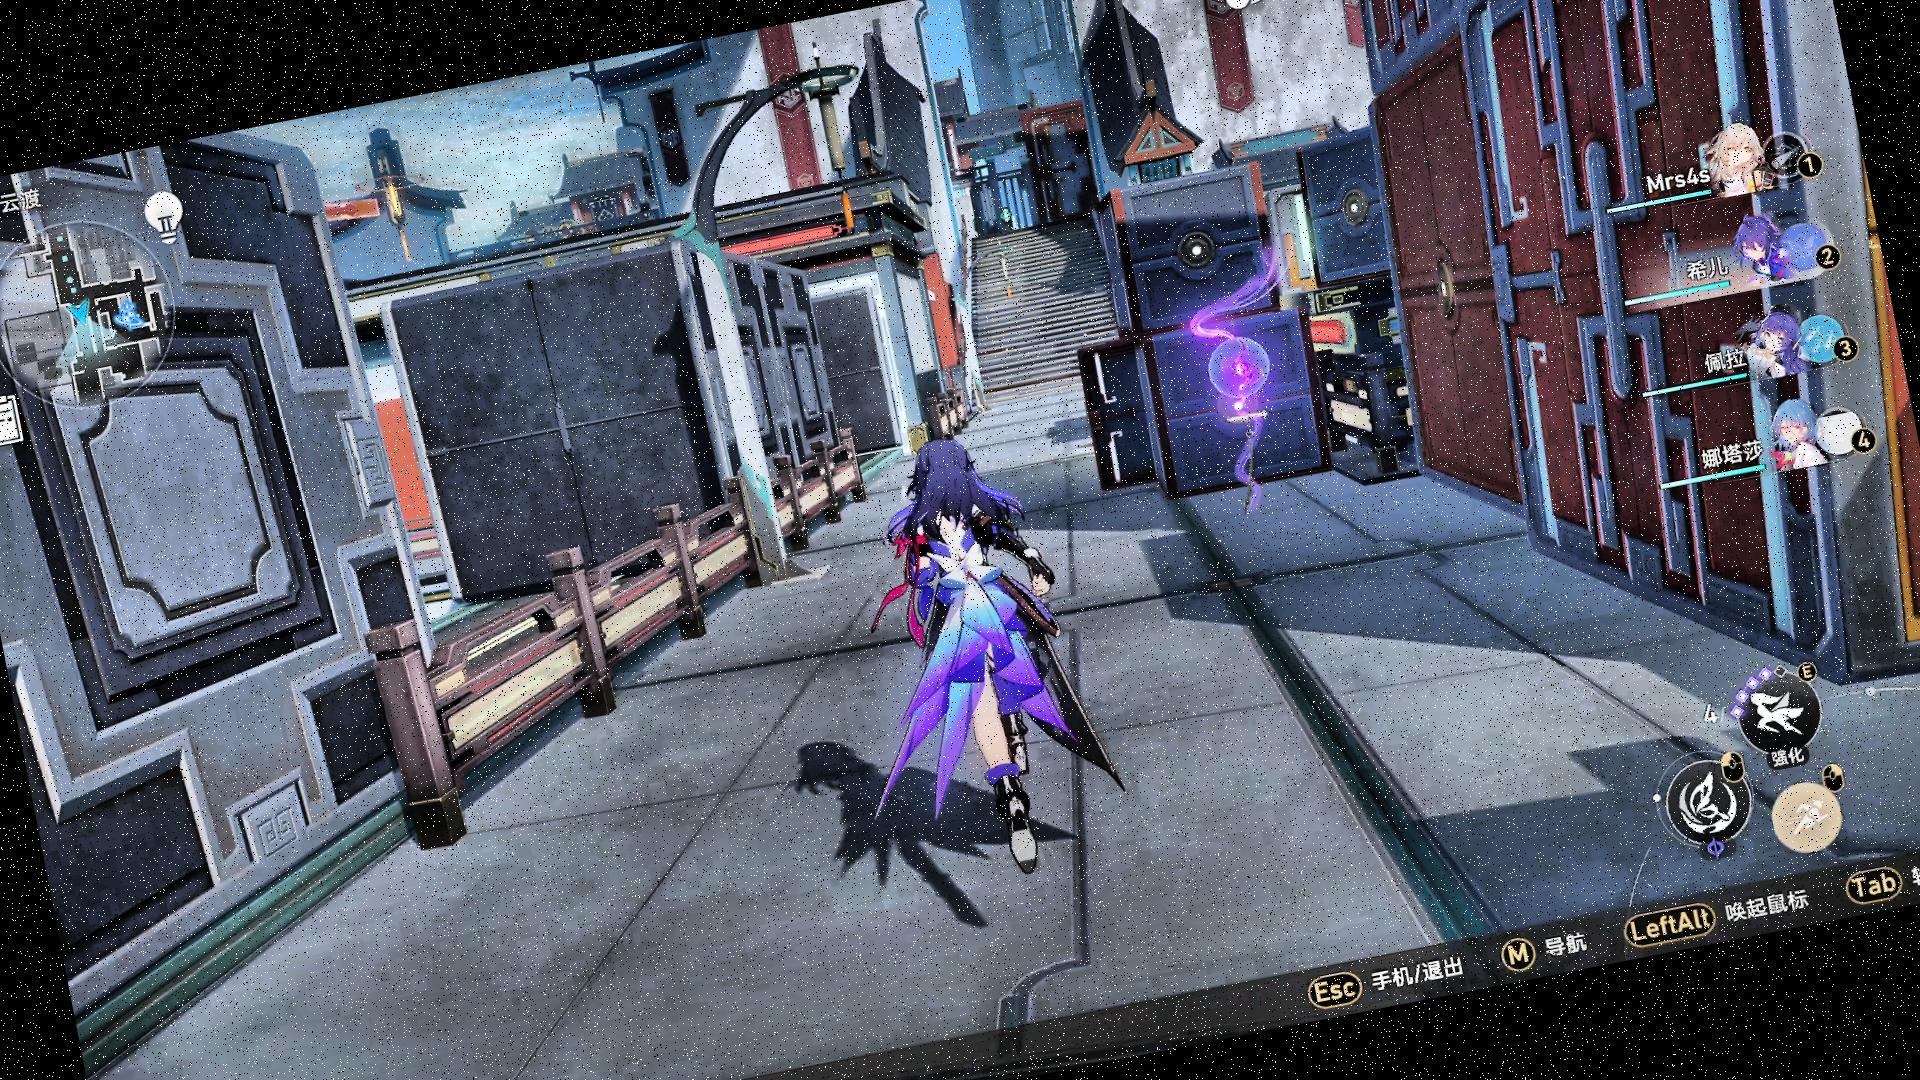Self: (839, 397, 1130, 893)
